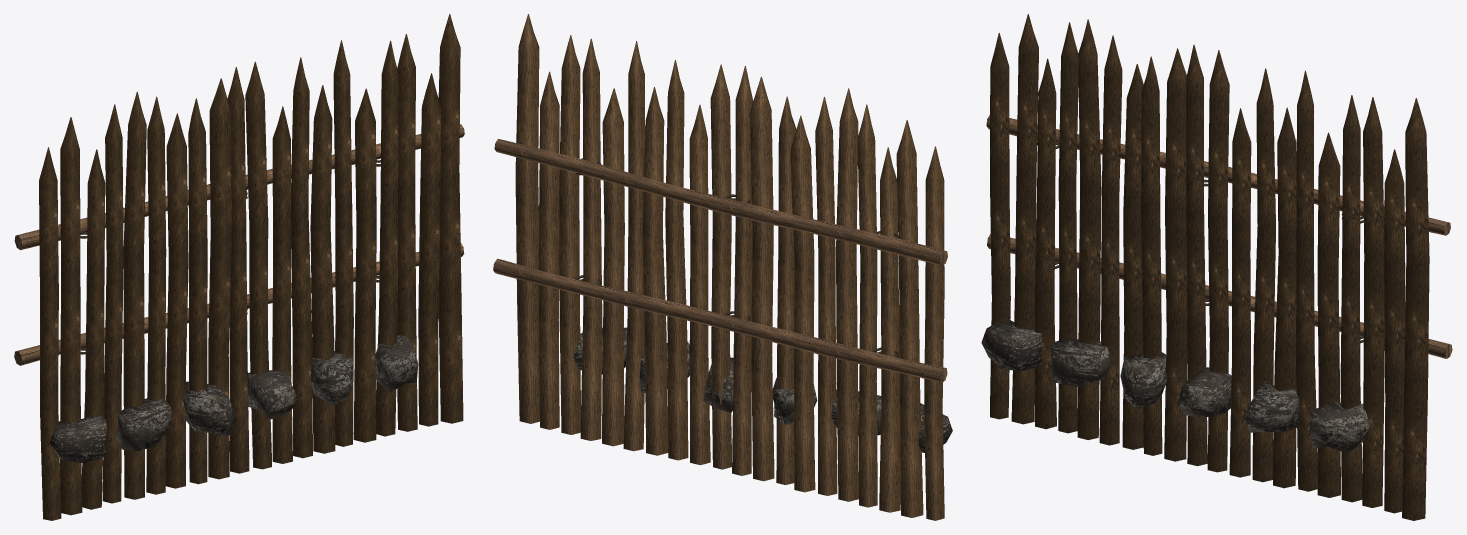
The model's file is SM_Bld_Player_Fence.gltf.
3 renders of one model, left to right at view 1: azimuth 30°, elevation 25°; view 2: azimuth 150°, elevation 25°; view 3: azimuth 330°, elevation 25°, orthographic. The views are drawn at different scales.
Visible parts, largest first — view 1: SM_Bld_Player_Fence; view 2: SM_Bld_Player_Fence; view 3: SM_Bld_Player_Fence.
Part boxes in pixels (x1,y1,x2,y2): SM_Bld_Player_Fence: (14,14,464,520); SM_Bld_Player_Fence: (493,14,952,520); SM_Bld_Player_Fence: (981,14,1452,520).
Bounding box in the file's own units: 4.21 × 3.66 × 0.698.
4 materials, 4 textured.
